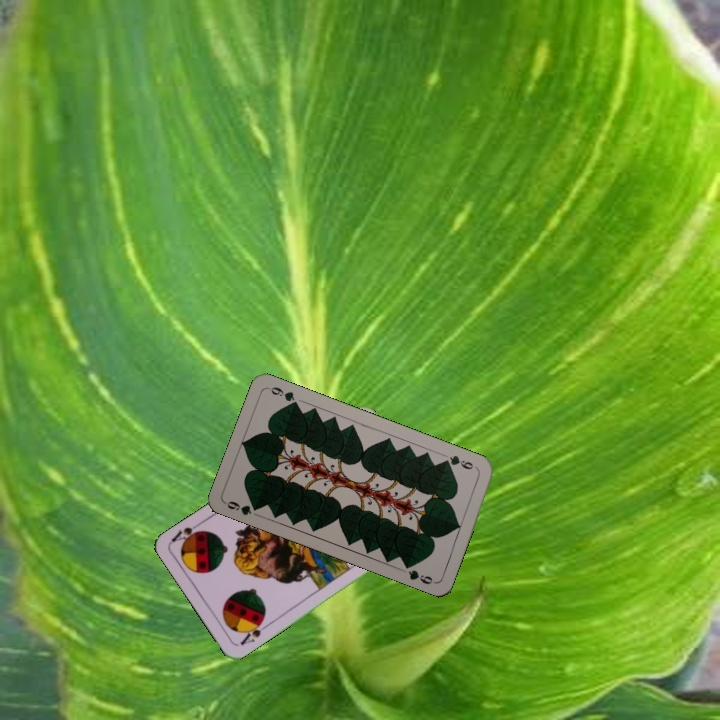G9: (221, 497, 263, 518), (439, 451, 480, 472)
SA: (236, 615, 271, 648)
